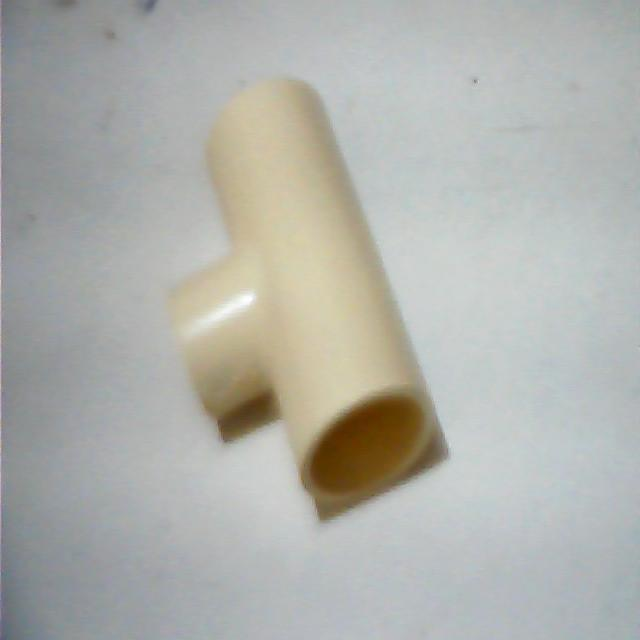T Joint: (170, 77, 451, 525)
